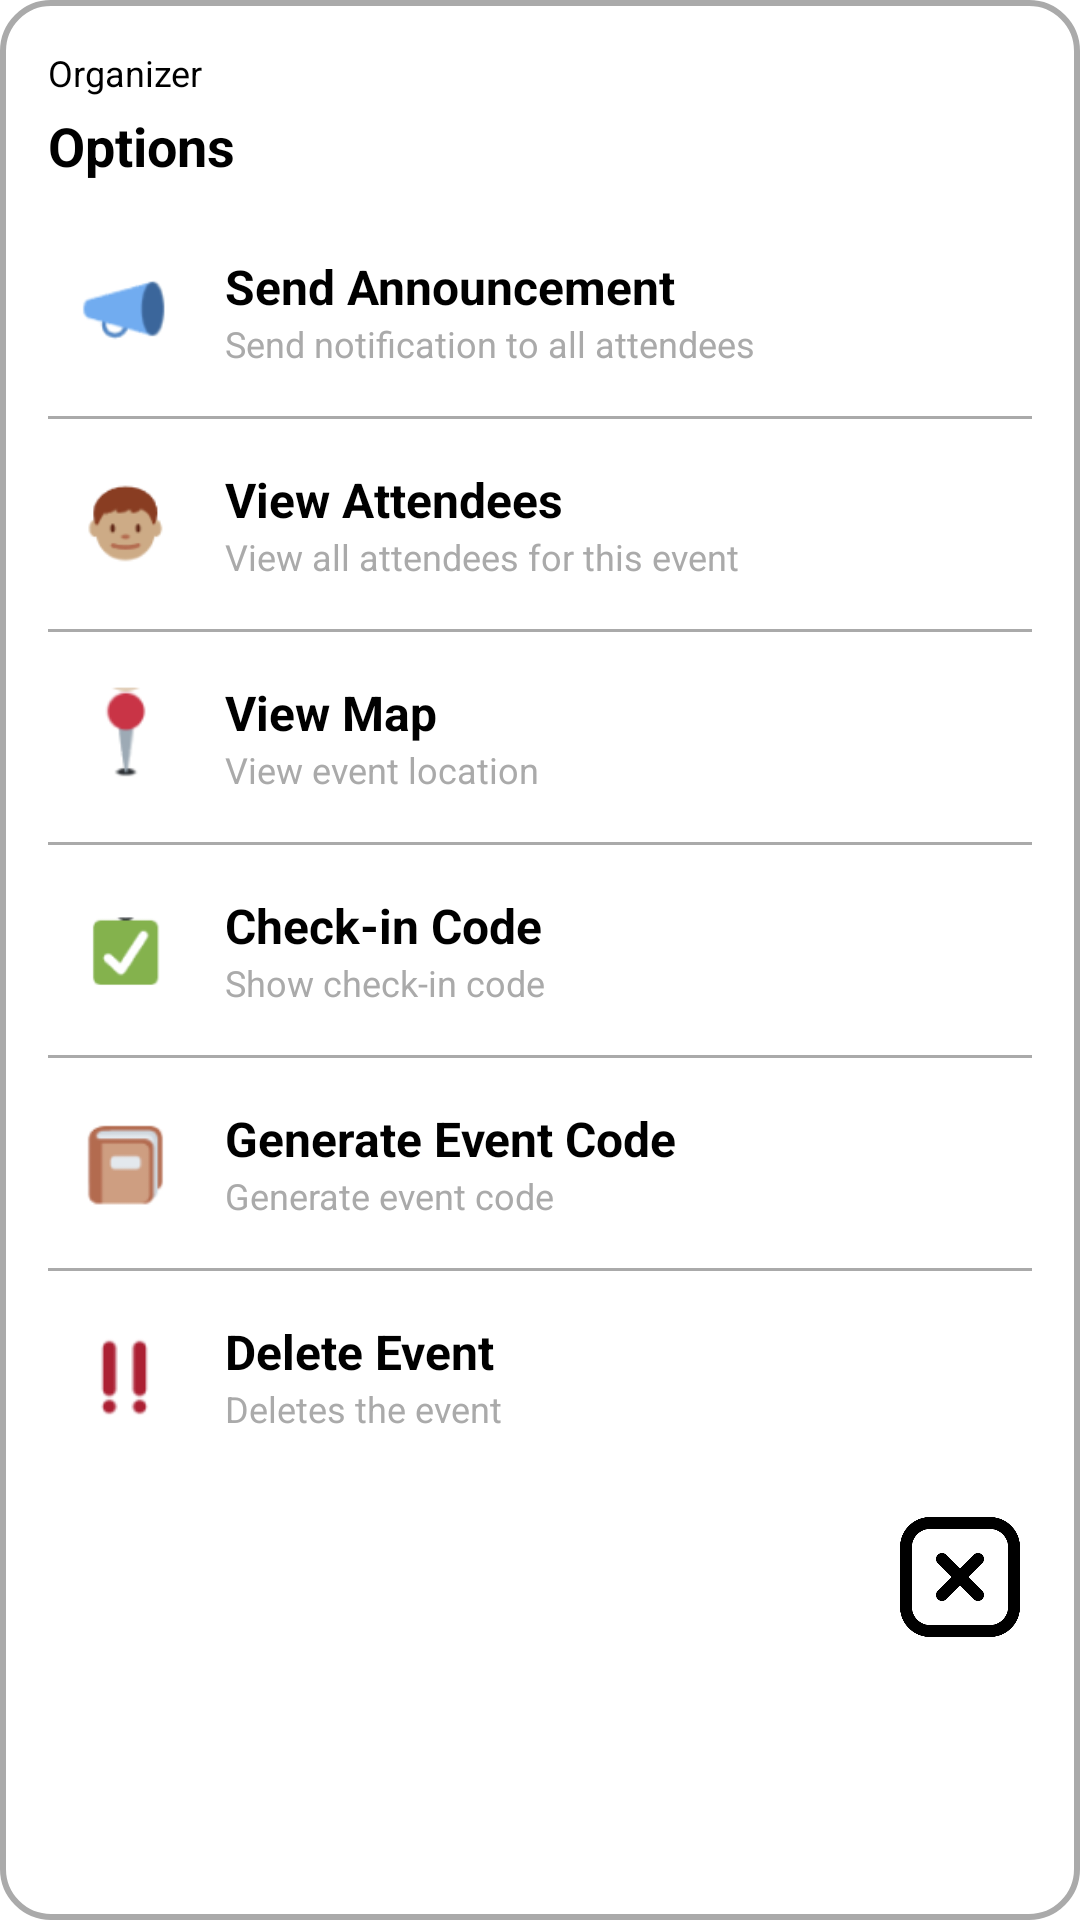

Where icons sit on this 1080x1920 app screen, as (x1, y1, x2, y2):
Close: (900, 1517, 1020, 1637)
